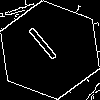I: (25, 25, 67, 70)
